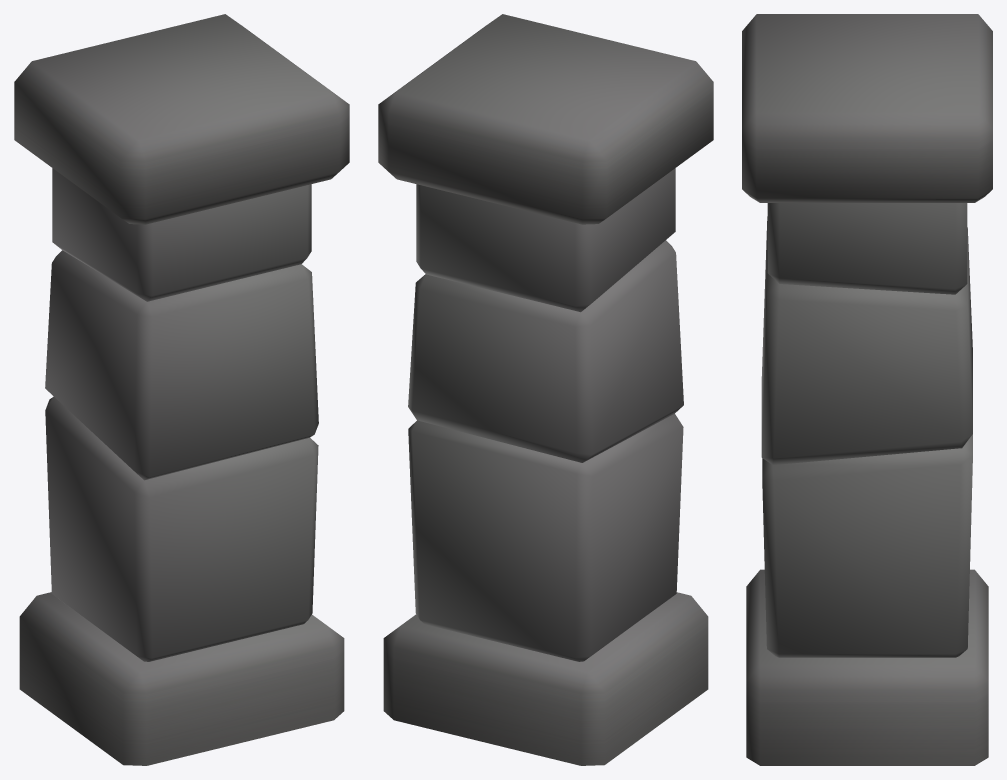
The model's file is Pilar_1_1.obj.
The picture shows the model from 3 angles, left to right: view 1: azimuth 30°, elevation 25°; view 2: azimuth 150°, elevation 25°; view 3: azimuth 270°, elevation 25°; orthographic projection. The views are drawn at different scales.
Parts seen in each view (by area): view 1: Pilar_1_1; view 2: Pilar_1_1; view 3: Pilar_1_1.
Part boxes in pixels (x1,y1,x2,y2): Pilar_1_1: [14, 14, 349, 765]; Pilar_1_1: [378, 14, 713, 765]; Pilar_1_1: [742, 14, 992, 765].
Bounding box in the file's own units: 0.4802 × 1.25 × 0.4399.
